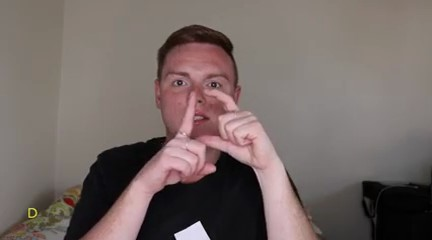D: (152, 83, 275, 191)
